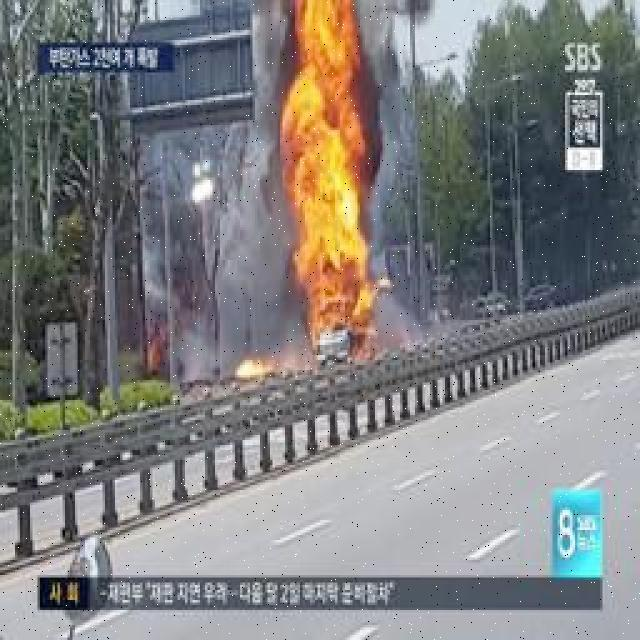fire: (292, 14, 381, 362)
smoke: (212, 109, 284, 347)
